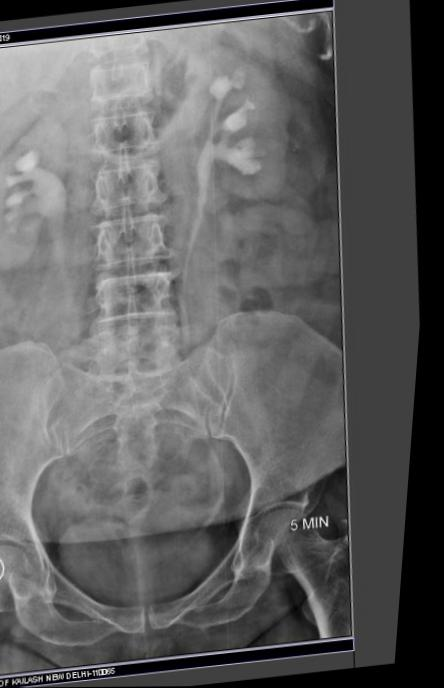bladder: (42, 468, 258, 620)
left kidney: (162, 34, 316, 217)
right kidney: (0, 106, 103, 290)
vertebrae: (86, 107, 168, 162)
